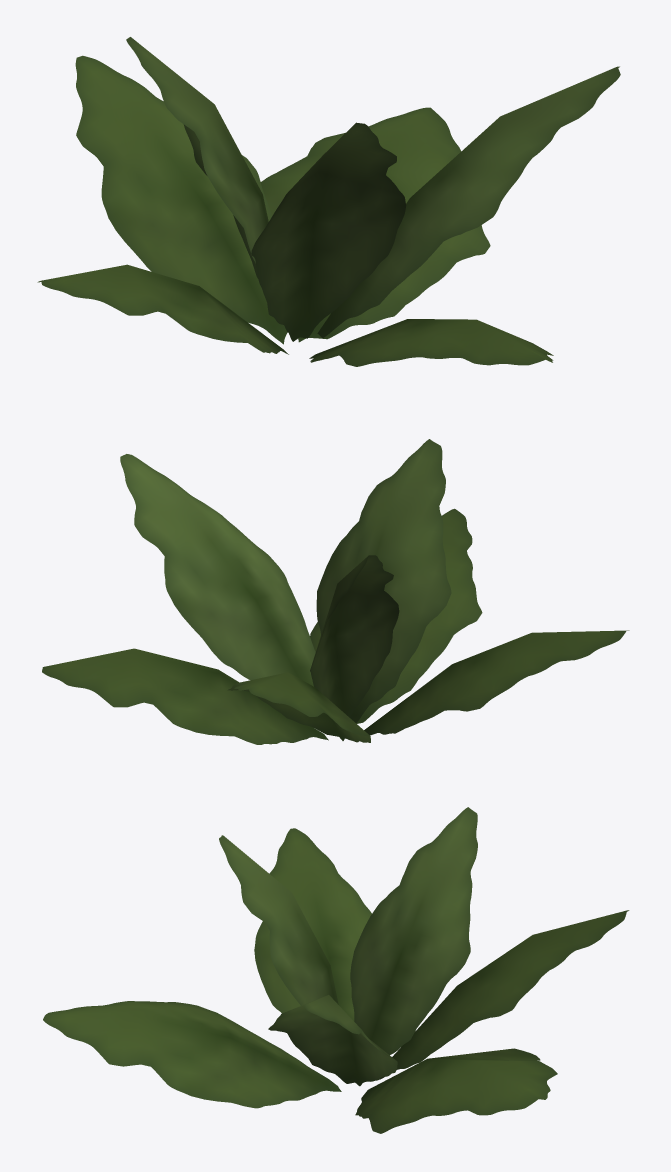
File: Plant_05.fbx
The picture shows the model from 3 angles, top to bottom: view 1: azimuth 30°, elevation 25°; view 2: azimuth 150°, elevation 25°; view 3: azimuth 270°, elevation 25°; orthographic projection. The views are drawn at different scales.
Visible parts, largest first — view 1: Plant_05; view 2: Plant_05; view 3: Plant_05.
Boxes of the visible parts, x1,y1,x2,y2 form: Plant_05: (37, 37, 620, 366); Plant_05: (42, 439, 629, 744); Plant_05: (43, 807, 629, 1133).
Bounding box in the file's own units: 171 × 81.96 × 178.
1 material, 1 textured.
